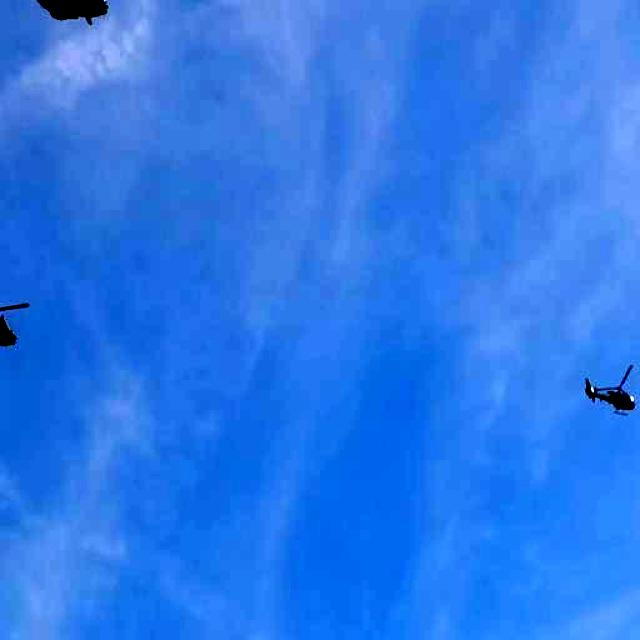drone: (0, 0, 132, 56), (0, 259, 42, 384), (578, 350, 640, 431)
